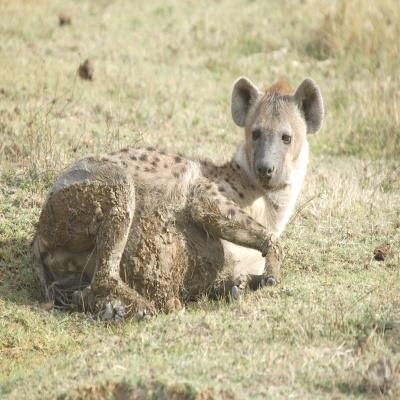hyenas: (49, 68, 397, 342)
